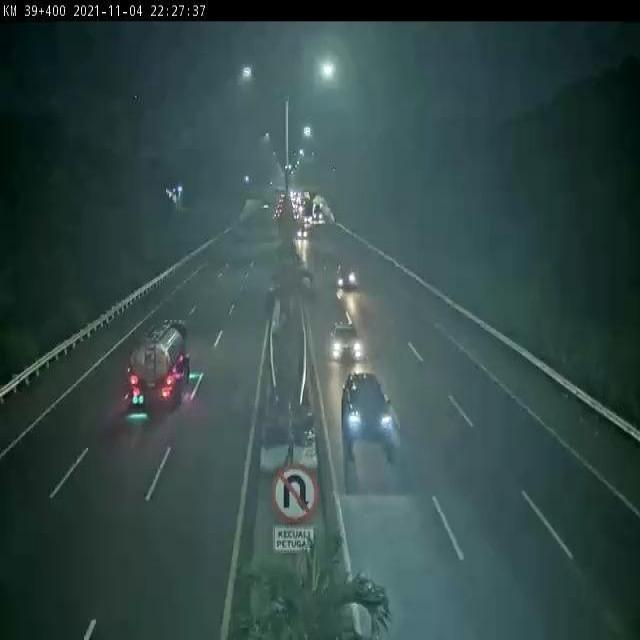car: (340, 370, 393, 450), (328, 322, 361, 362), (337, 261, 356, 288)
truck-l-: (127, 317, 189, 408)
